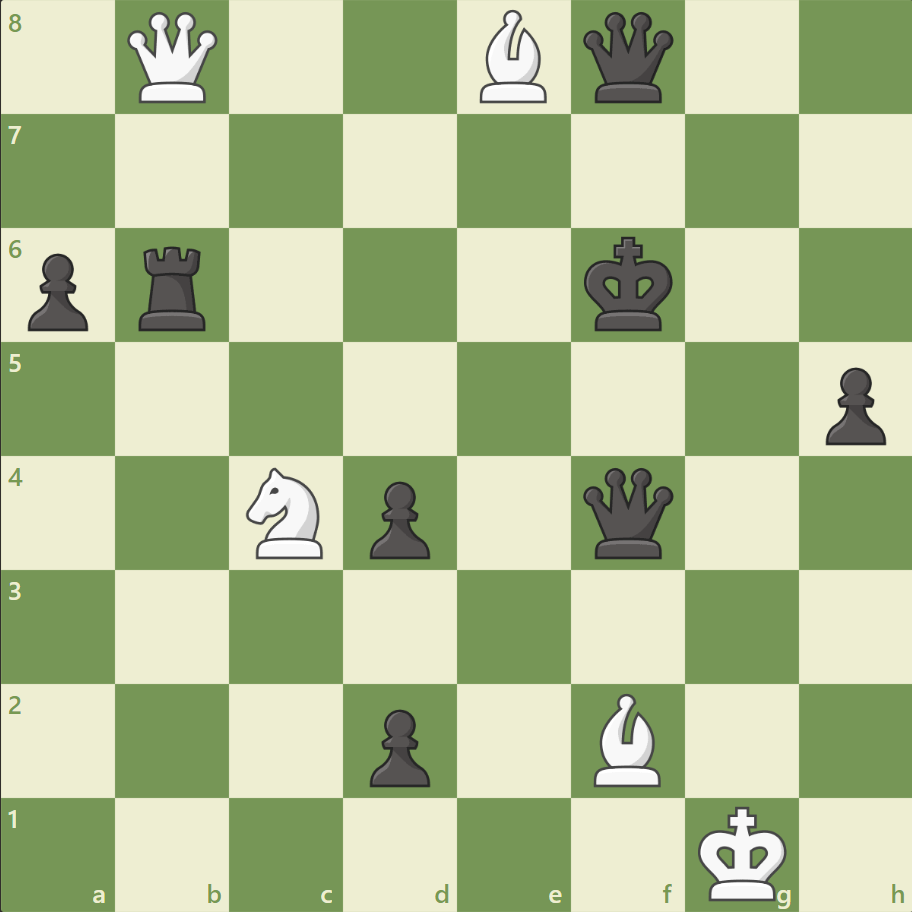B: (471, 6, 555, 109), (585, 687, 669, 790)
K: (692, 798, 792, 906)
N: (238, 461, 335, 564)
Q: (124, 9, 223, 108)
k: (579, 231, 679, 339)
p: (20, 246, 95, 337), (815, 359, 889, 450), (361, 473, 435, 564), (361, 700, 435, 791)
q: (578, 9, 677, 108), (578, 463, 677, 562)
r: (133, 239, 215, 336)
